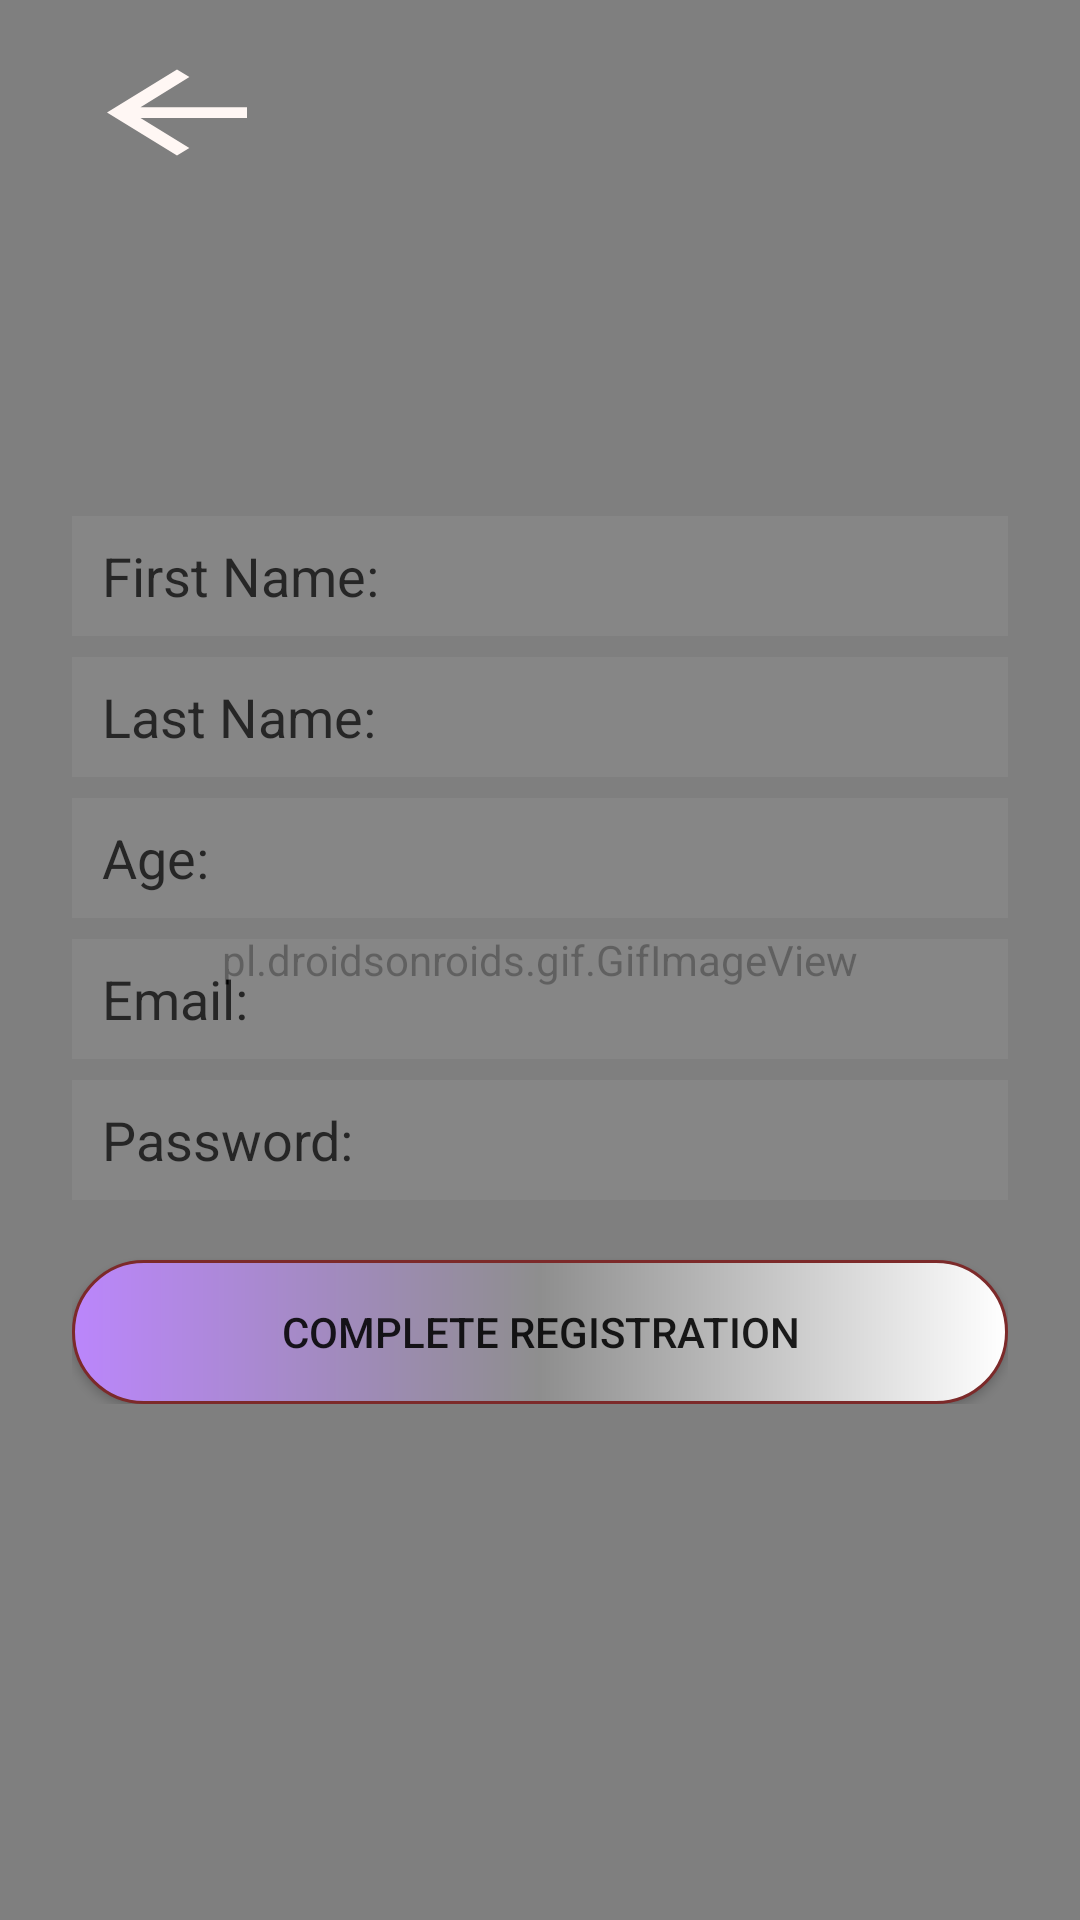

Named icons in this screenshot (1080*1920) and their bounding boxes, (x1, y1, x2, y2):
back: (107, 69, 247, 156)
